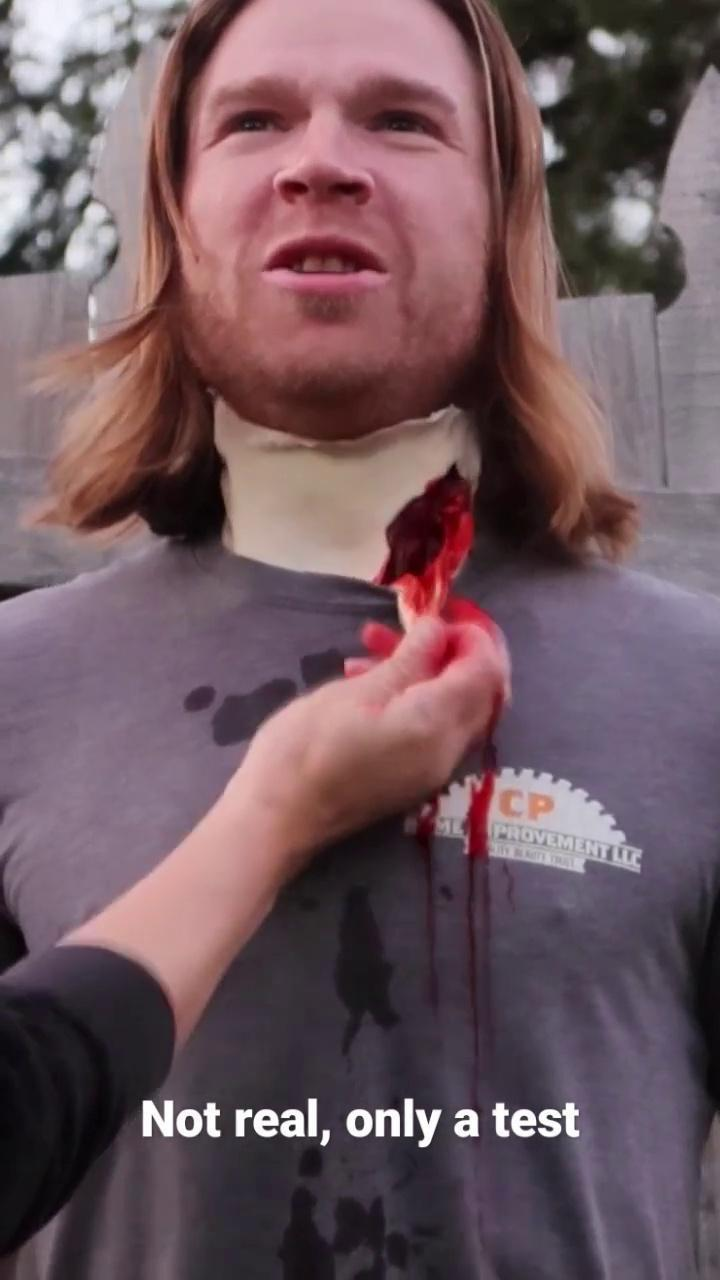Fire: (376, 465, 490, 628), (414, 797, 450, 1020), (465, 835, 493, 1104), (470, 686, 498, 832)
